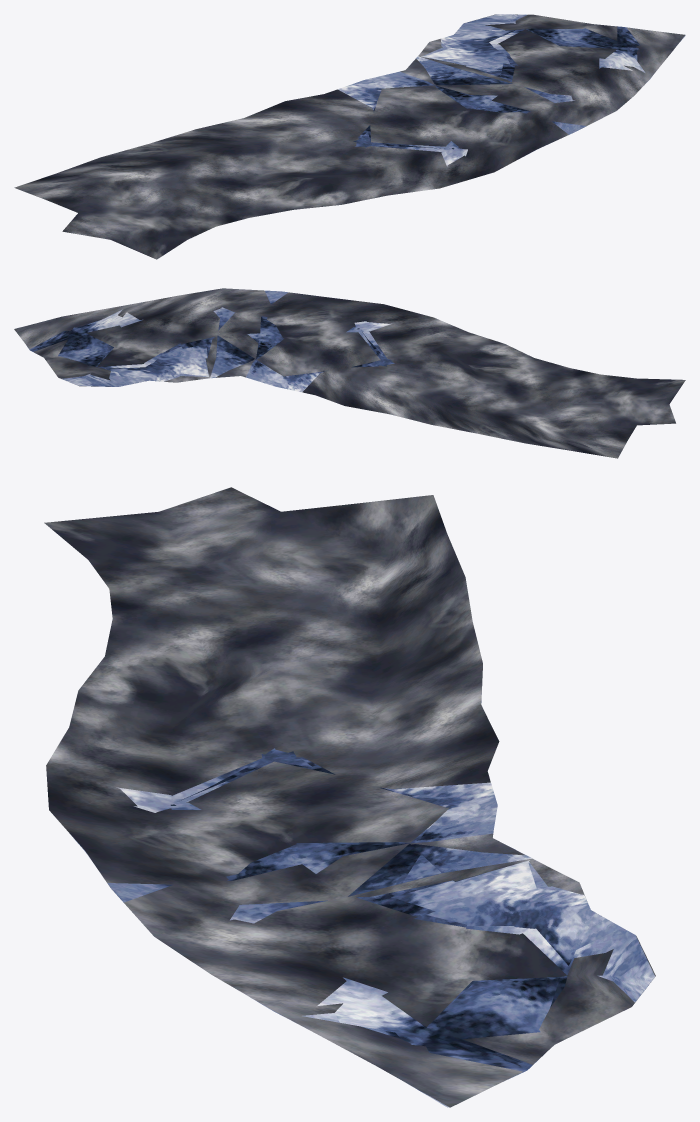
File: MIRKWOOD_WATER.fbx
3 renders of one model, top to bottom at view 1: azimuth 30°, elevation 25°; view 2: azimuth 150°, elevation 25°; view 3: azimuth 270°, elevation 25°, orthographic. The views are drawn at different scales.
Visible parts, largest first — view 1: MIRKWOOD_WATER; view 2: MIRKWOOD_WATER; view 3: MIRKWOOD_WATER.
Part boxes in pixels (x1=…): MIRKWOOD_WATER: x1=14, y1=14, x2=685, y2=259; MIRKWOOD_WATER: x1=14, y1=288, x2=685, y2=458; MIRKWOOD_WATER: x1=44, y1=487, x2=655, y2=1107.
Bounding box in the file's own units: 446641 × 14275 × 194799.
2 materials, 2 textured.
